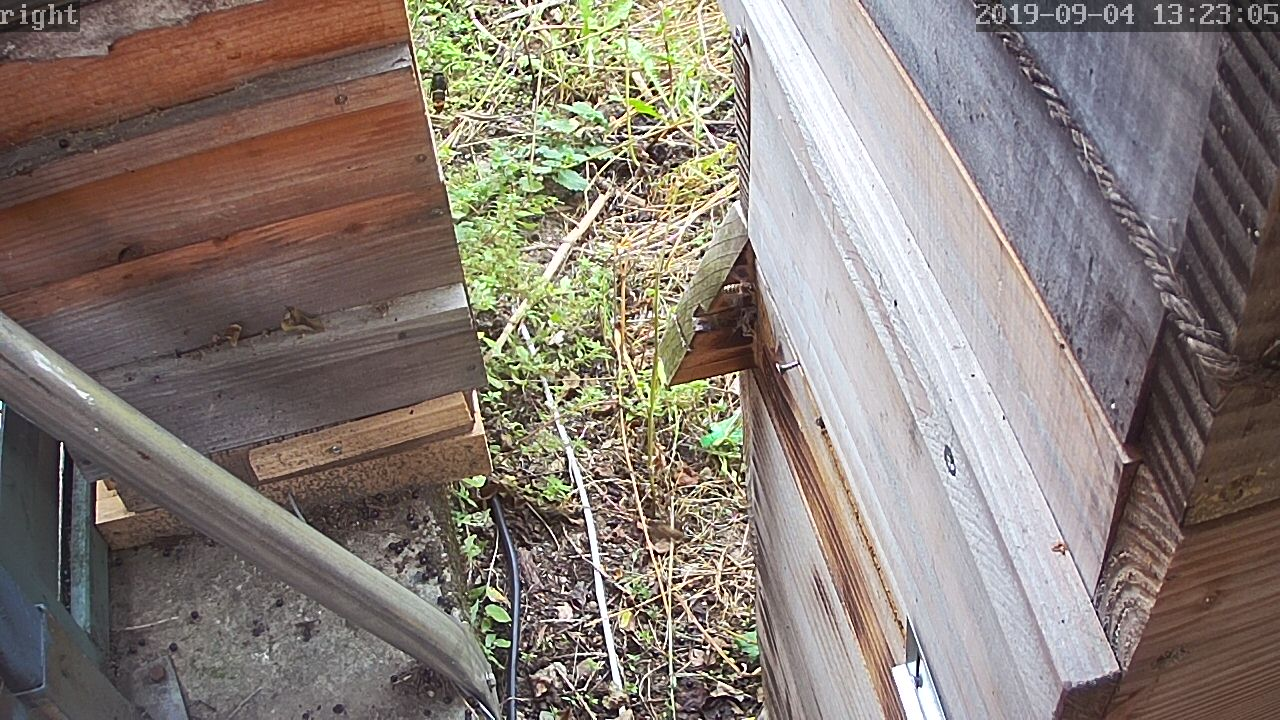bee: (720, 275, 761, 304)
hornet: (423, 62, 453, 117)
